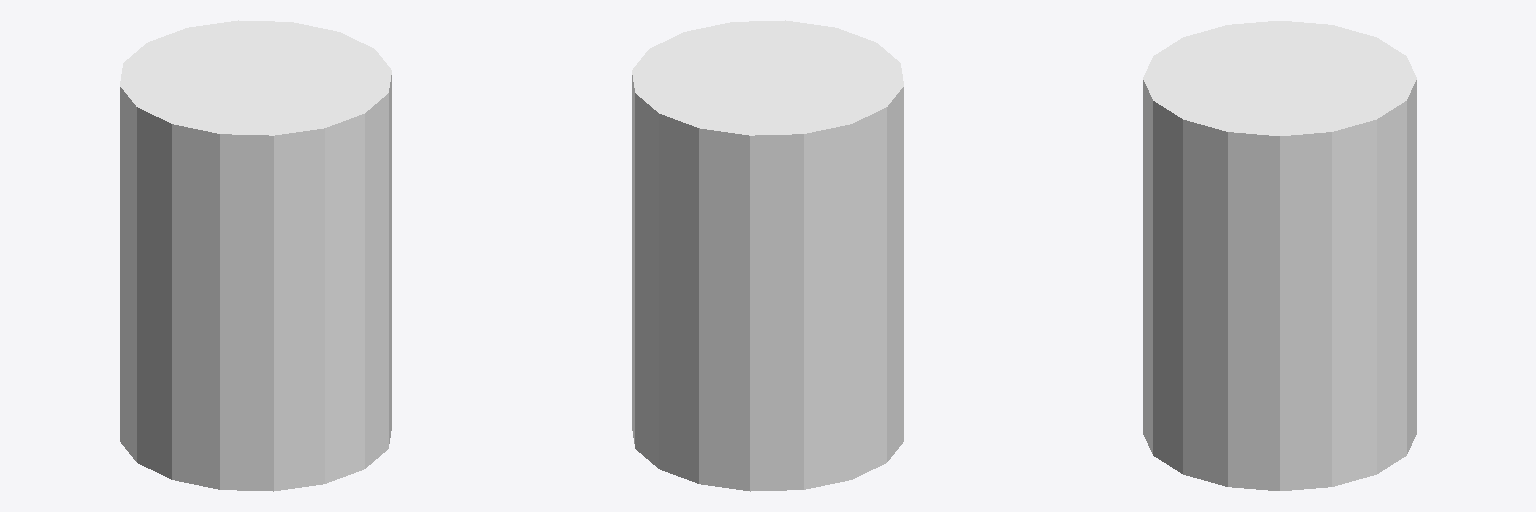
The robot description file, URDF, robot "cylinder.urdf":
<?xml version="1.0" ?>
<robot name="cylinder.urdf">
  <link name="baseLink">

    <inertial>
      <origin rpy="0 0 0" xyz="0 0 0"/>
       <mass value="0.0"/>
       <inertia ixx="0" ixy="0" ixz="0" iyy="0" iyz="0" izz="0"/>
    </inertial>
    <visual>
      <origin rpy="0 0 0" xyz="0 0 0"/>
      <geometry>
        <mesh filename="cylinder.obj" scale="1.0 1.0 1.0"/>
      </geometry>
      <material name="white">
       <color rgba="1 1 1 1"/>
     </material>
    </visual>
    <collision>
      <origin rpy="0 0 0" xyz="0 0 0"/>
      <geometry>
        <mesh filename="cylinder.obj" scale="1.0 1.0 1.0"/>
        <!-- You could also specify the collision (for the cylinder) with a "box" tag: -->
        <!-- <box size=".06 .06 .06"/> -->
      </geometry>
    </collision>
  </link>
</robot>
        

--- Render facts (derived) ---
Views: 3 orthographic renders of the robot side by side, from view 1: azimuth 30°, elevation 25°; view 2: azimuth 150°, elevation 25°; view 3: azimuth 270°, elevation 25°.
Model cylinder.urdf with 1 links and 0 joints (none), rooted at baseLink, posed all joints at 0.
Visible links, largest first — view 1: baseLink; view 2: baseLink; view 3: baseLink.
Link boxes in pixels (left/top/right/bottom): baseLink: left=120, top=20, right=391, bottom=491; baseLink: left=632, top=20, right=903, bottom=491; baseLink: left=1143, top=21, right=1416, bottom=490.
Bounding box of the posed robot: 0.7 × 0.7 × 1 m (x, y, z).
1 mesh visuals loaded from 1 distinct referenced files (1 OBJ).